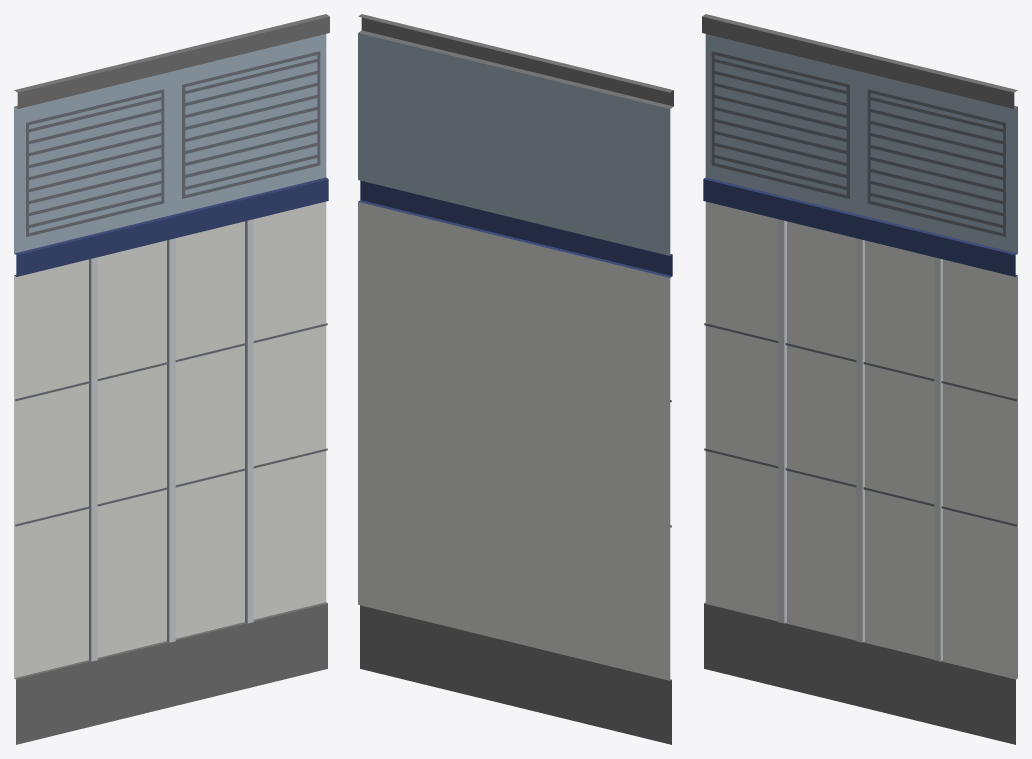
Rendered from mid-w1_close.fbx.
3 renders of one model, left to right at view 1: azimuth 30°, elevation 25°; view 2: azimuth 150°, elevation 25°; view 3: azimuth 330°, elevation 25°, orthographic.
Parts seen in each view (by area): view 1: a1028/0/mid-w1_close; view 2: a1028/0/mid-w1_close; view 3: a1028/0/mid-w1_close.
Boxes of the visible parts, bbox=[...] form: a1028/0/mid-w1_close: bbox=[14, 14, 329, 744]; a1028/0/mid-w1_close: bbox=[358, 14, 673, 744]; a1028/0/mid-w1_close: bbox=[702, 14, 1017, 744].
Bounding box in the file's own units: 6 × 12 × 0.12.
